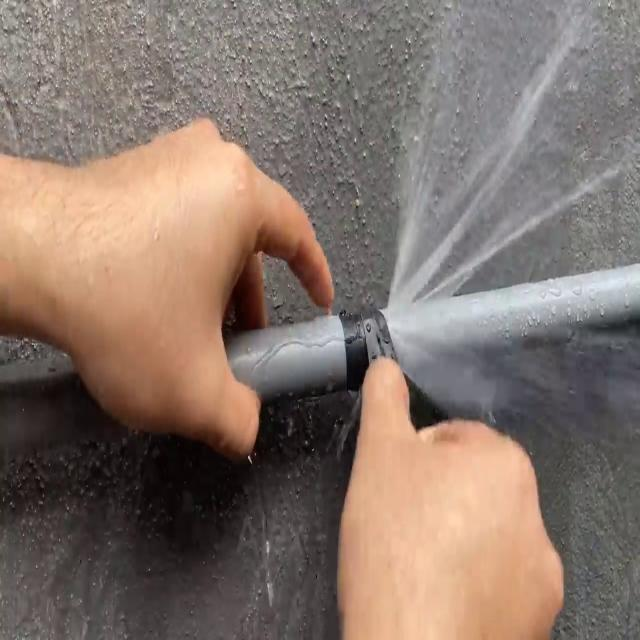leak: (383, 0, 640, 455)
